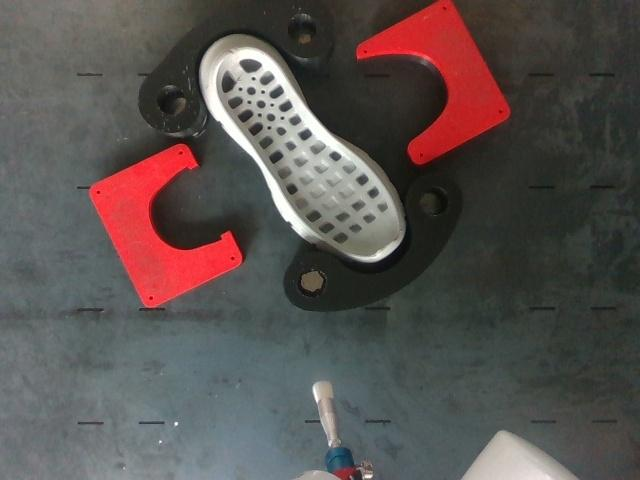shoes: (215, 48, 399, 258)
